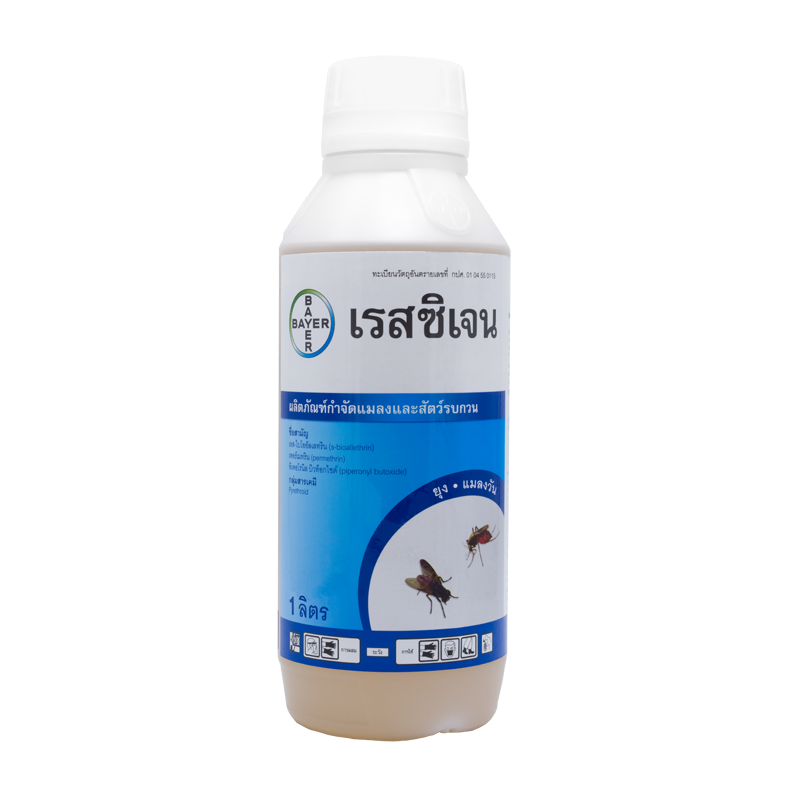Insecticide: (272, 49, 518, 749)
